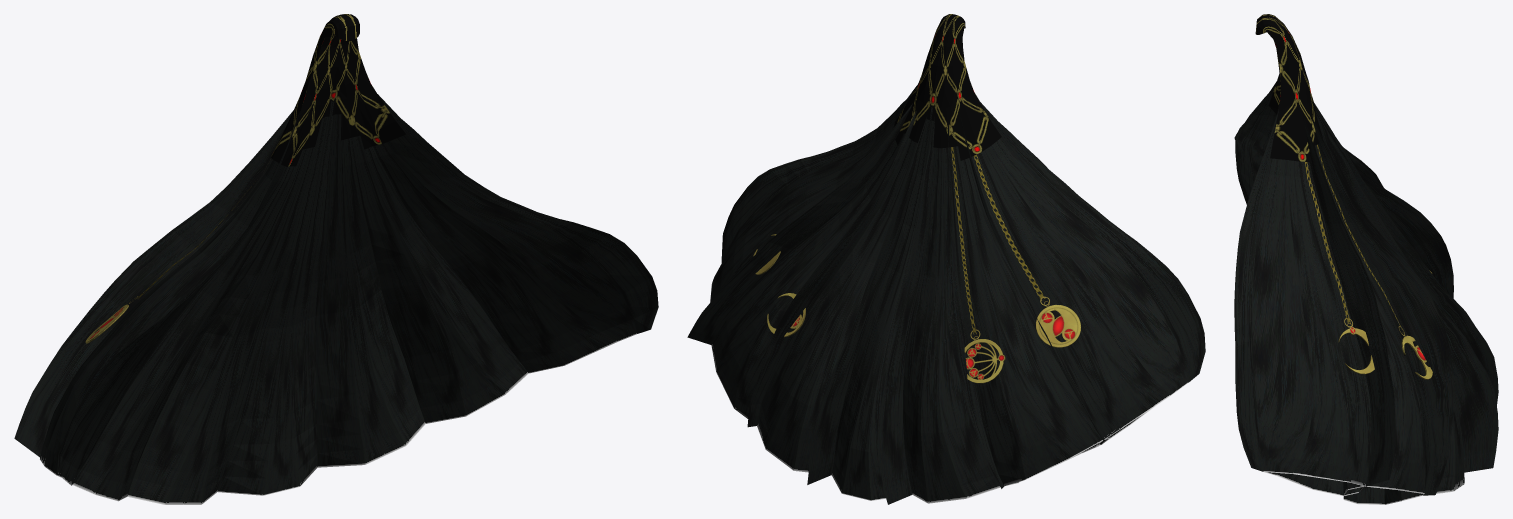
The model's file is serious_mode.obj.
The picture shows the model from 3 angles, left to right: view 1: azimuth 30°, elevation 25°; view 2: azimuth 150°, elevation 25°; view 3: azimuth 270°, elevation 25°; orthographic projection. The views are drawn at different scales.
Visible parts, largest first — view 1: mesh0, mesh1, mesh2; view 2: mesh0, mesh1, mesh2, mesh4, mesh3; view 3: mesh0, mesh1, mesh2, mesh3, mesh4.
Boxes of the visible parts, x1,y1,x2,y2 form: mesh0: (14,94,658,504); mesh1: (43,101,633,504); mesh2: (271,14,406,166); mesh0: (687,85,1205,504); mesh1: (710,108,1188,503); mesh2: (894,14,1001,160); mesh4: (753,234,1081,383); mesh3: (951,147,1045,334); mesh0: (1234,81,1498,504); mesh1: (1252,125,1464,504); mesh2: (1255,14,1322,161); mesh3: (1305,144,1402,329); mesh4: (1338,270,1432,379).
Bounding box in the file's own units: 2.85 × 2.36 × 1.26.
5 materials, 5 textured.
